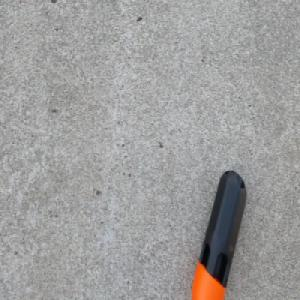PlasticPart: (191, 169, 247, 300)
